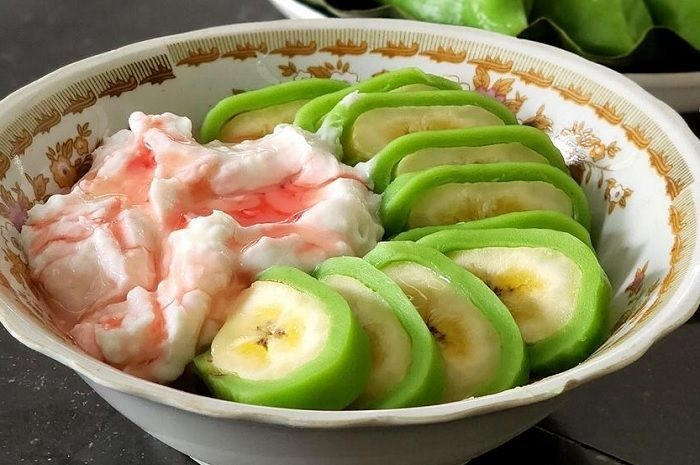pisang_ijo: (218, 267, 359, 415)
